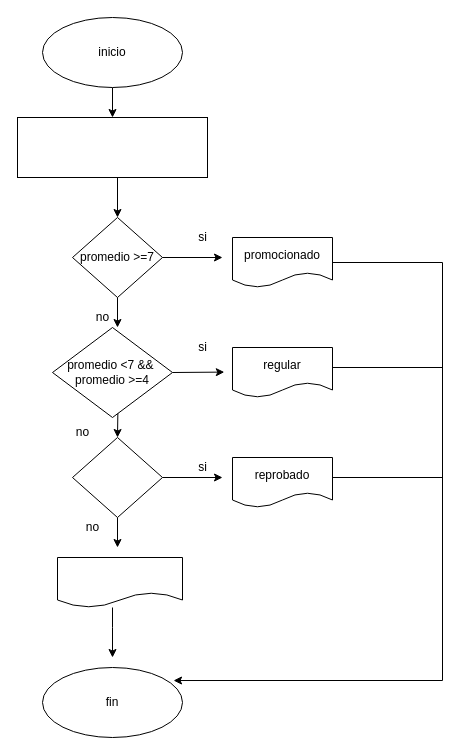
Image size: 468x755. Some labels were removed from this diagram. Here are the shapes that lost their labels. From the top down, the box of each, then its label:
(16, 116, 208, 178): suma= nota 1 + nota 2 + nota 3 promedio= suma / 3
(72, 436, 162, 518): promedio <4
(56, 556, 182, 608): resultado no valido
